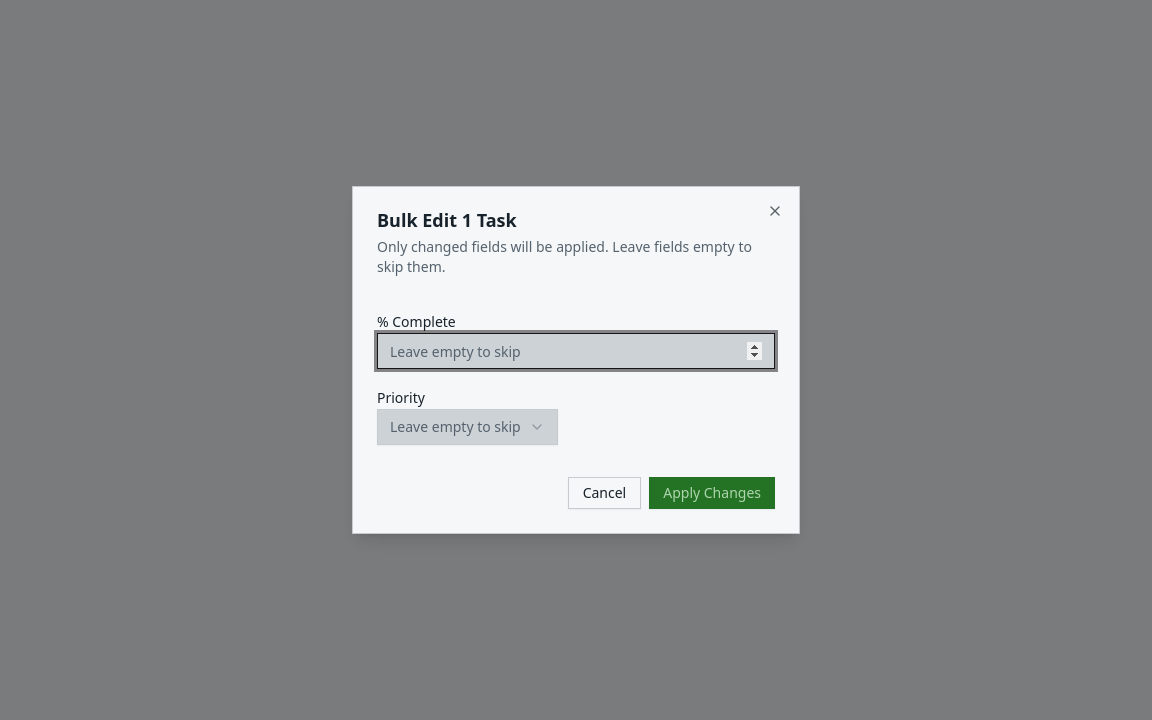
Test: BulkEditDialog › disables submit for summary-only percent edits
The width and height of the screenshot is (1152, 720).
Type "50" into the number field with placeholder "Leave empty to skip" at [576, 351], box [377,333,775,369]
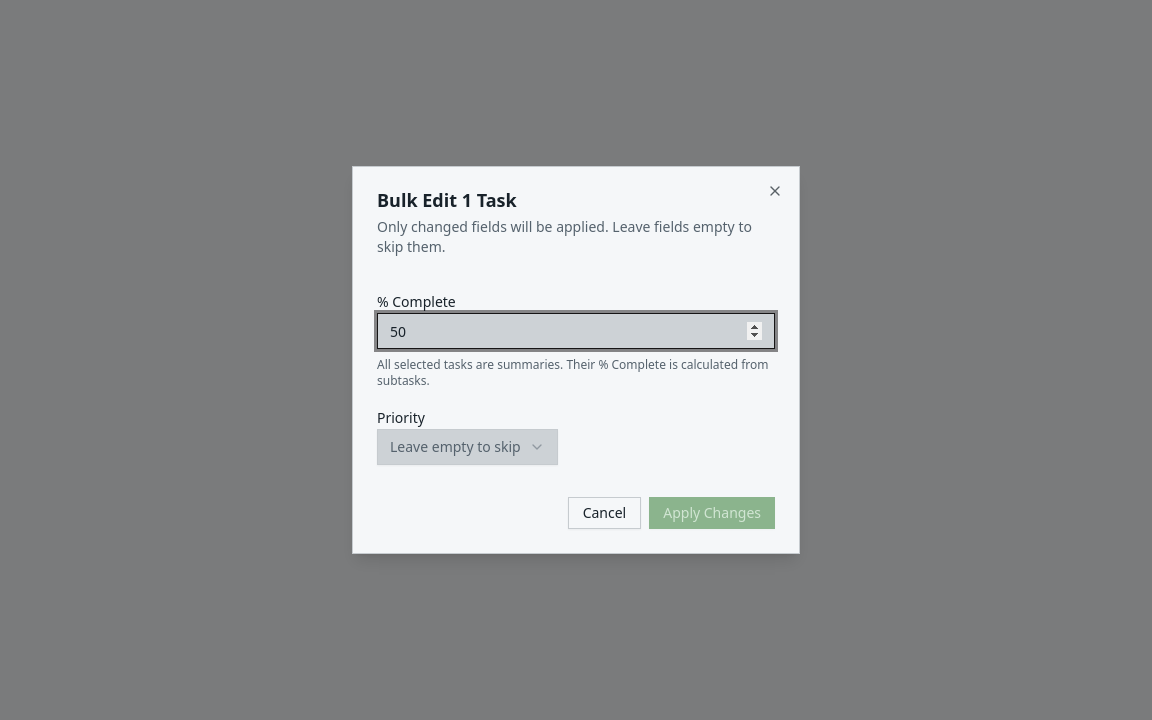
Expected: the text "All selected tasks are summaries. Their % Complete is calculated from subtasks." is shown, [377,357,775,389]
Expected: the button "Apply Changes" is disabled, [649,497,775,529]
